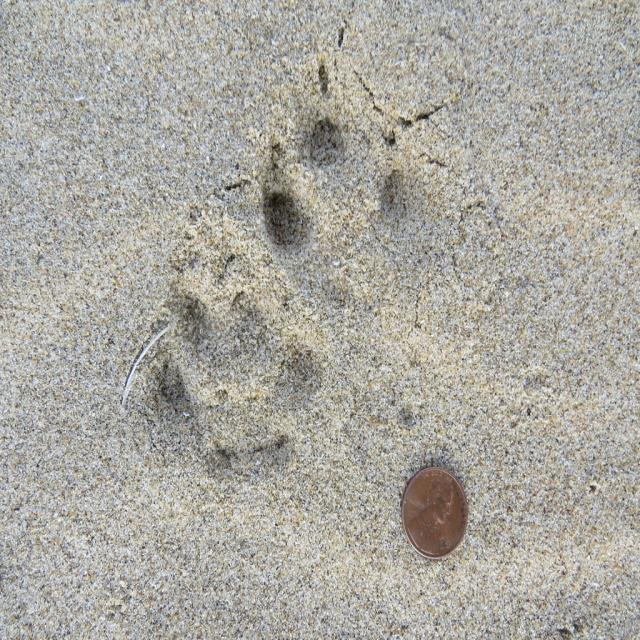canid: (133, 280, 327, 513)
